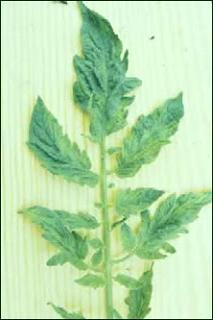Tomato leaf mosaic virus: (69, 5, 132, 143), (27, 98, 100, 186), (119, 188, 207, 260), (15, 208, 95, 273), (110, 186, 164, 216)
